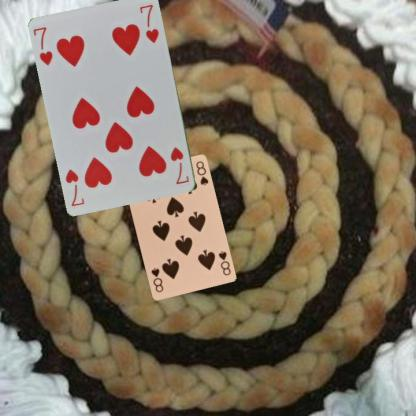7h: (31, 24, 54, 67), (168, 144, 191, 186)
8s: (216, 248, 232, 277)
